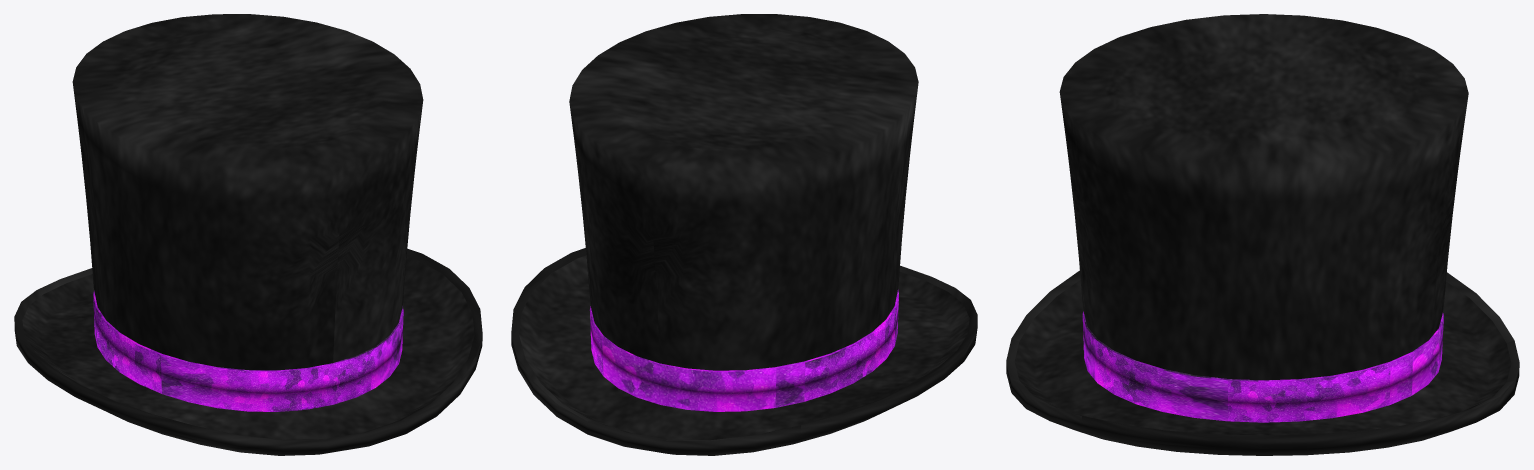
The model's file is testhat.glb.
3 renders of one model, left to right at view 1: azimuth 30°, elevation 25°; view 2: azimuth 150°, elevation 25°; view 3: azimuth 270°, elevation 25°, orthographic. The views are drawn at different scales.
Visible parts, largest first — view 1: Cylinder.002; view 2: Cylinder.002; view 3: Cylinder.002.
Boxes of the visible parts, x1=… form: Cylinder.002: x1=14, y1=14, x2=482, y2=455; Cylinder.002: x1=511, y1=14, x2=977, y2=455; Cylinder.002: x1=1006, y1=14, x2=1519, y2=455.
Bounding box in the file's own units: 1.69 × 1.15 × 1.76.
1 material, 1 textured.
